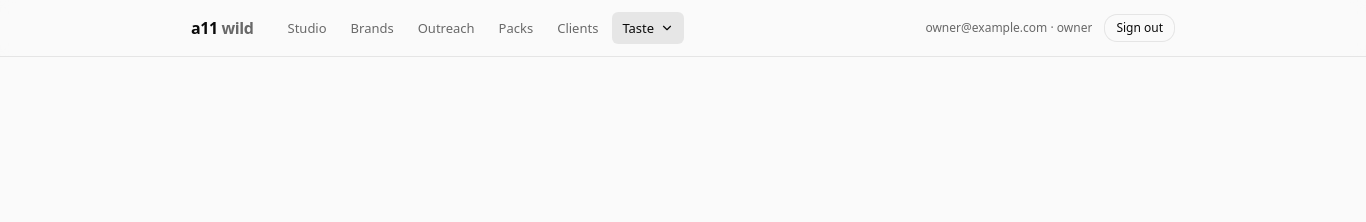
Test: Shell › names the open section on the button when it is one behind More, and closes the list once a section opens
Click the button named "Taste, more sections" at (648, 28), box [612,12,684,44]
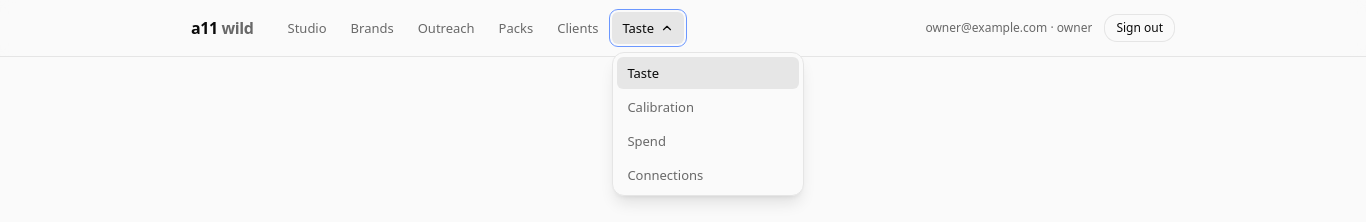
Click the link "Spend" at (647, 141), box [627,132,666,150]
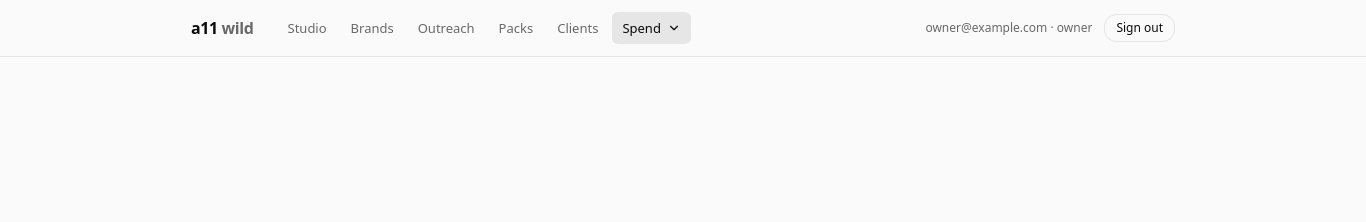
Result: the list is gone
Result: the button named "Spend, more sections" is collapsed at [612,12,691,44]
